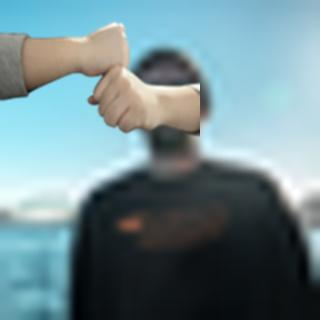CAREFUL: (26, 21, 201, 135)
